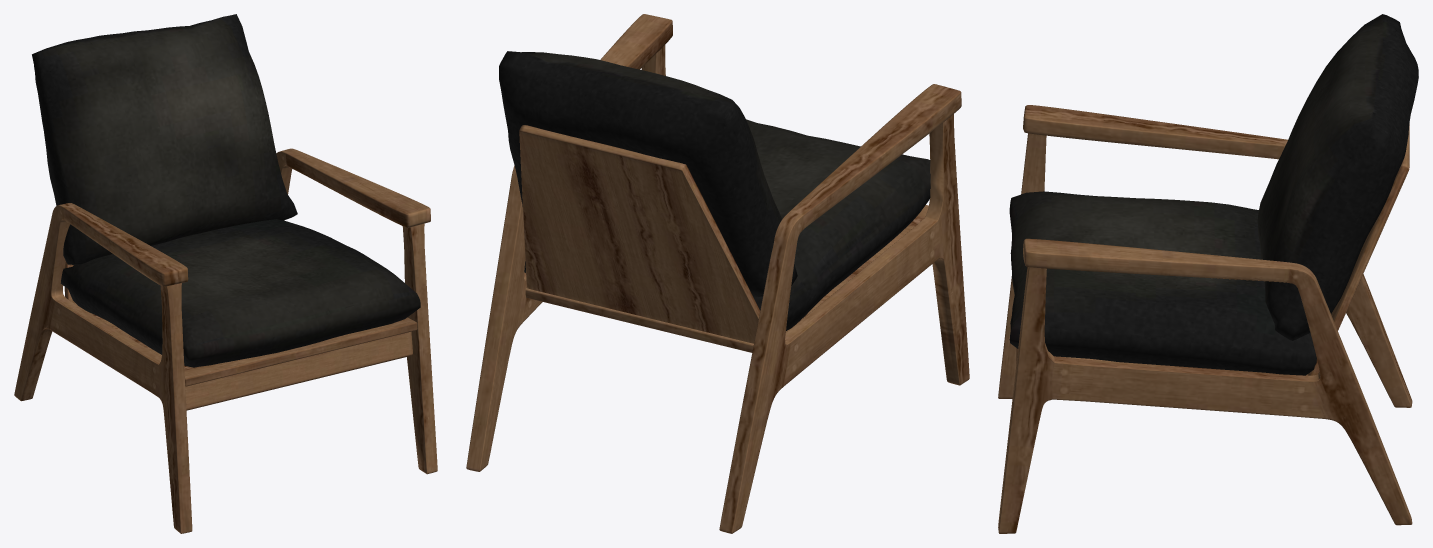
The model's file is test-modern-arm-chair-01.0726196ba1.ar.glb.
The picture shows the model from 3 angles, left to right: view 1: azimuth 30°, elevation 25°; view 2: azimuth 150°, elevation 25°; view 3: azimuth 270°, elevation 25°; orthographic projection. The views are drawn at different scales.
Parts seen in each view (by area): view 1: modern_arm_chair_01; view 2: modern_arm_chair_01; view 3: modern_arm_chair_01.
Boxes of the visible parts, bbox=[...] form: modern_arm_chair_01: bbox=[14, 14, 437, 533]; modern_arm_chair_01: bbox=[466, 14, 969, 533]; modern_arm_chair_01: bbox=[998, 14, 1418, 533].
Size of the model in its own units: 0.8203 by 1.02 by 0.9866.
2 materials, 2 textured.
